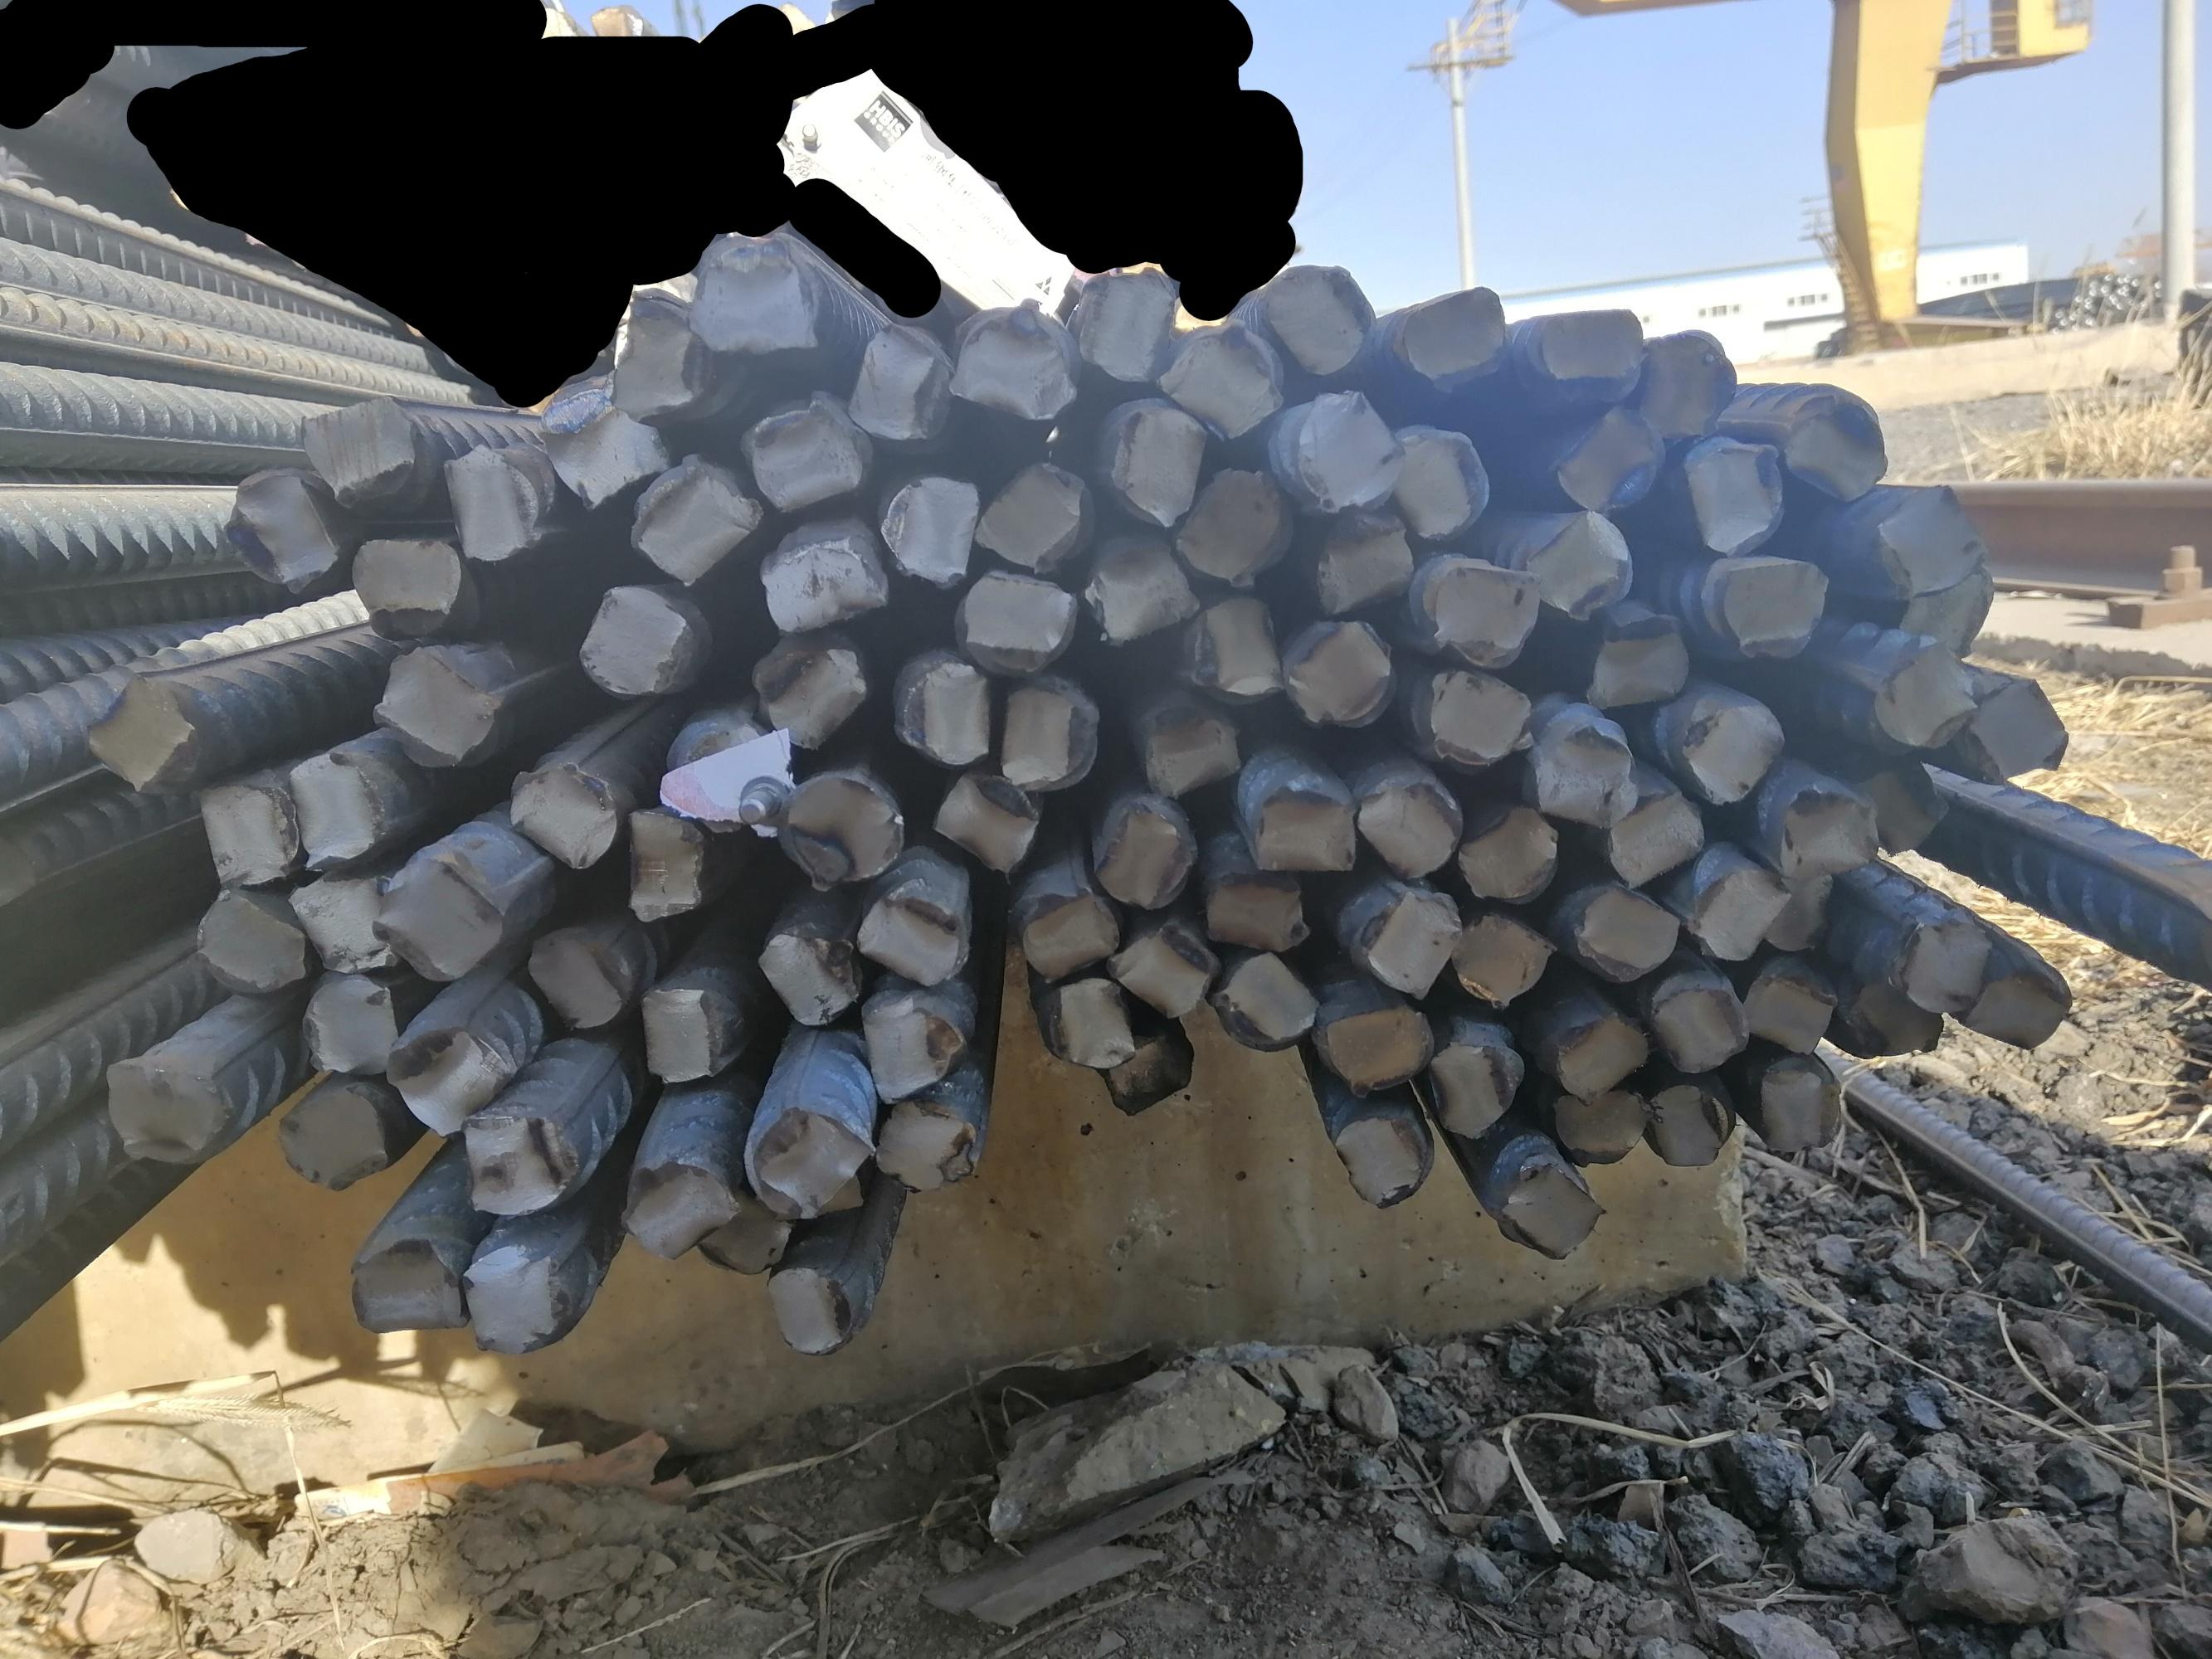bar: (676, 227, 819, 362), (370, 856, 507, 986), (739, 390, 873, 519), (769, 767, 906, 890), (629, 457, 760, 586), (366, 641, 502, 765), (947, 300, 1079, 423), (601, 288, 722, 423), (1159, 314, 1285, 443), (532, 403, 671, 514), (1177, 462, 1297, 589), (220, 465, 338, 594), (385, 1026, 516, 1143), (753, 528, 887, 638), (105, 1054, 230, 1171), (746, 638, 873, 753), (458, 1103, 584, 1218), (1102, 394, 1208, 528), (572, 584, 690, 702), (296, 394, 417, 511), (1867, 479, 1984, 599), (617, 1145, 739, 1260), (1954, 667, 2069, 789), (1869, 636, 1982, 760), (87, 671, 199, 796), (1290, 389, 1401, 514), (748, 1101, 875, 1211), (436, 437, 544, 566), (1086, 530, 1204, 647), (286, 863, 403, 979), (1546, 399, 1666, 512), (1773, 387, 1893, 500), (847, 321, 955, 446), (967, 455, 1088, 566), (854, 880, 971, 993), (1067, 263, 1178, 382), (1269, 260, 1381, 378), (1522, 504, 1635, 619), (671, 718, 781, 836), (1712, 551, 1830, 660), (1684, 427, 1787, 552), (1283, 619, 1398, 730), (1680, 695, 1792, 810), (275, 1086, 394, 1194), (854, 986, 962, 1105), (1316, 995, 1435, 1103), (962, 566, 1075, 678), (279, 751, 383, 871), (345, 1236, 469, 1337), (1530, 714, 1642, 826), (1388, 416, 1492, 535), (507, 756, 615, 870), (865, 1091, 981, 1195), (1358, 885, 1462, 1002), (193, 885, 312, 988), (879, 467, 978, 589), (525, 925, 634, 1033), (1105, 910, 1217, 1016), (1252, 769, 1358, 880), (1309, 500, 1415, 612), (1358, 769, 1462, 882), (1091, 795, 1194, 910), (1182, 589, 1283, 706), (458, 1246, 567, 1354), (296, 971, 406, 1077), (193, 777, 298, 889), (1001, 680, 1105, 791), (350, 535, 464, 638), (1424, 667, 1537, 770), (1578, 606, 1694, 706), (1774, 779, 1886, 882), (1396, 286, 1511, 385), (1954, 958, 2073, 1054), (1680, 854, 1788, 958), (1497, 1162, 1607, 1265), (1131, 694, 1243, 795), (1428, 559, 1543, 657), (629, 978, 732, 1086), (936, 769, 1037, 878), (1532, 303, 1645, 401), (1572, 882, 1677, 985), (750, 925, 856, 1026), (1452, 802, 1560, 901), (1210, 950, 1323, 1044), (1332, 1103, 1431, 1209), (1445, 910, 1555, 1006), (1640, 328, 1734, 439), (899, 652, 992, 765), (619, 805, 704, 927), (1550, 1002, 1649, 1107), (1023, 887, 1123, 988), (1605, 789, 1708, 887), (1856, 749, 1951, 856), (1640, 979, 1747, 1073), (1096, 1006, 1189, 1114), (1203, 870, 1311, 962), (1039, 967, 1131, 1073), (1431, 1033, 1520, 1140), (1896, 915, 1991, 1014), (1759, 1049, 1841, 1162), (763, 1256, 851, 1361), (1902, 566, 1998, 659), (1544, 1086, 1647, 1171), (692, 1182, 784, 1276), (1740, 965, 1837, 1054), (1748, 857, 1835, 957), (1644, 1080, 1733, 1176), (1842, 981, 1942, 1065)
